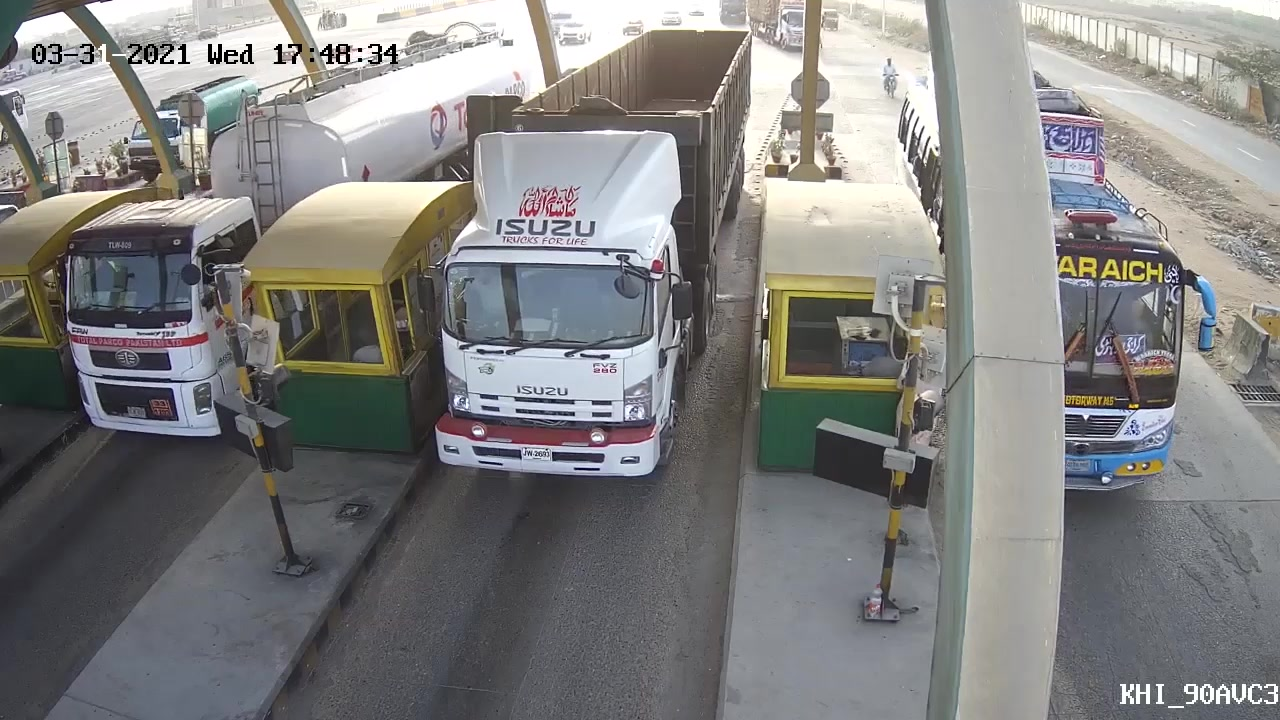F6: (416, 26, 762, 496)
